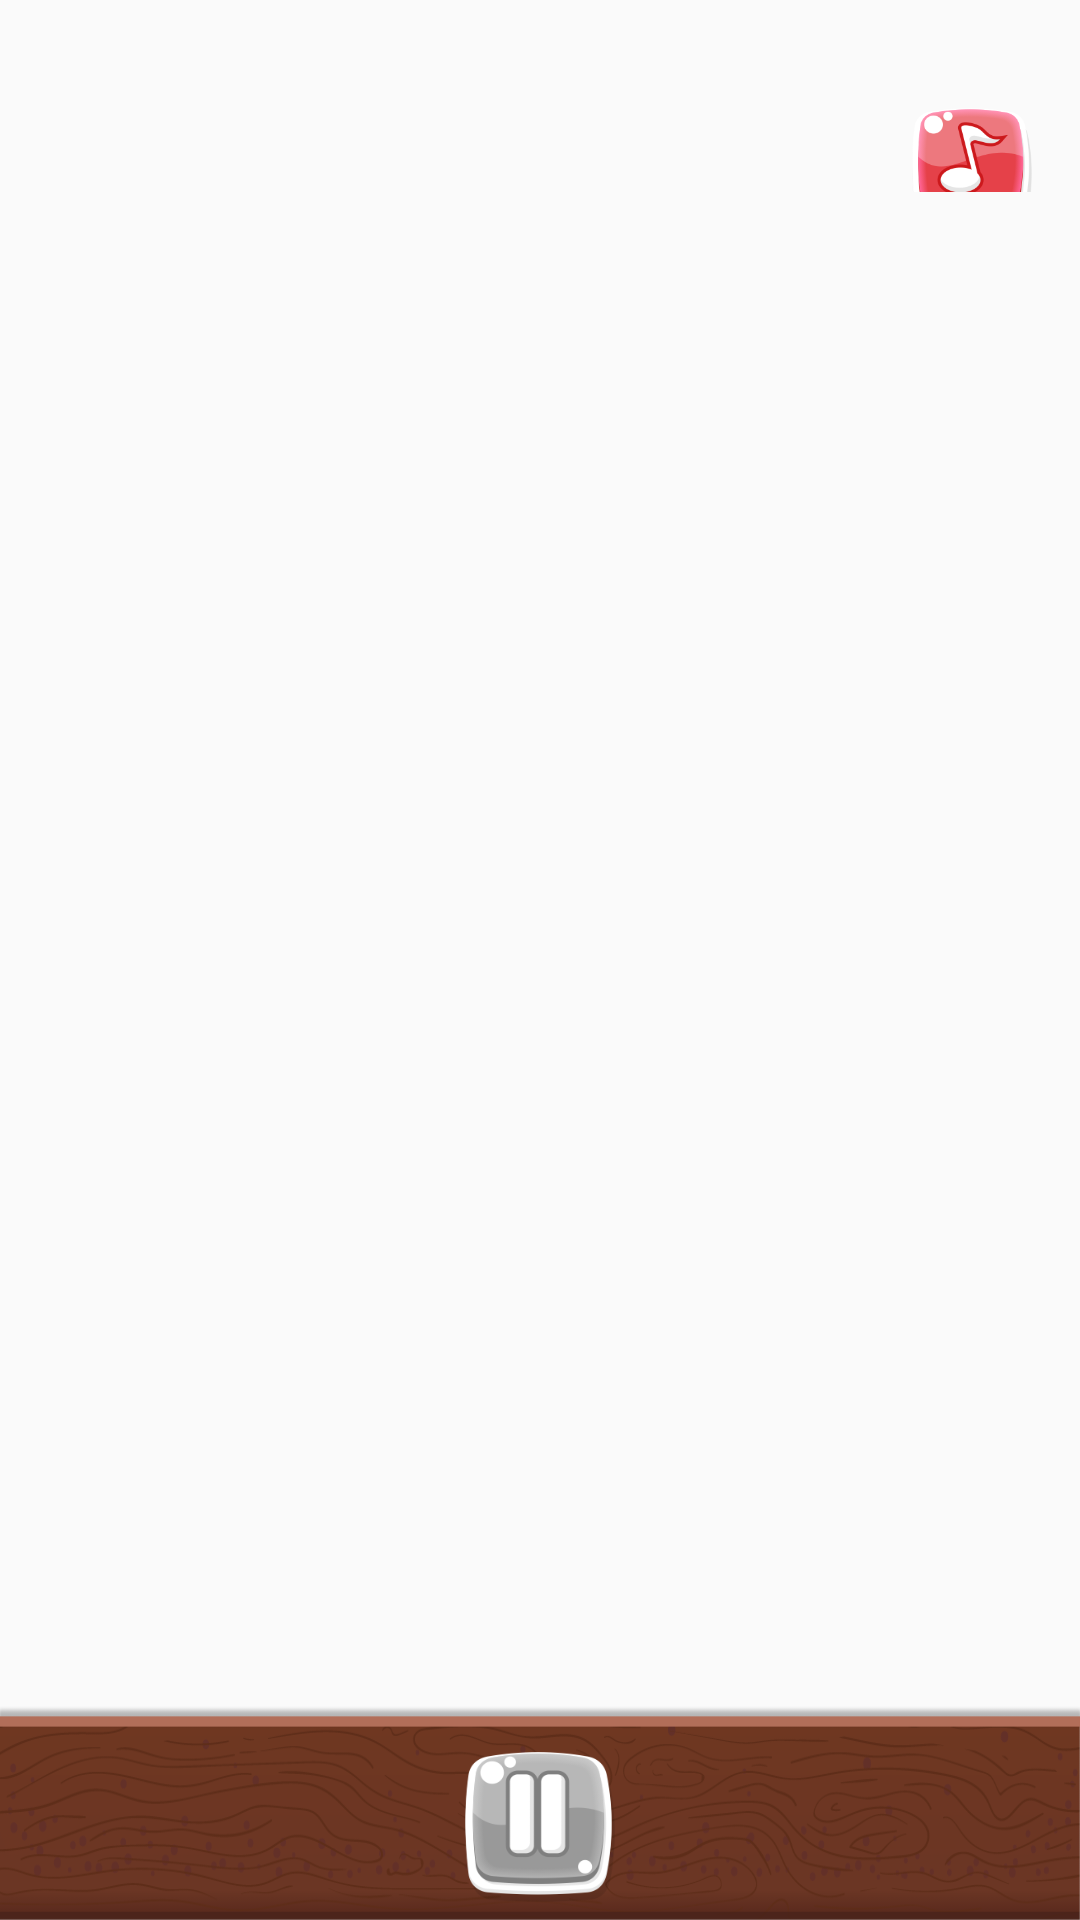

Icon bounding boxes for this 1080w x 1920h phone screenshot, format (x1, y1, x2, y2):
pause: (465, 1752, 613, 1898)
